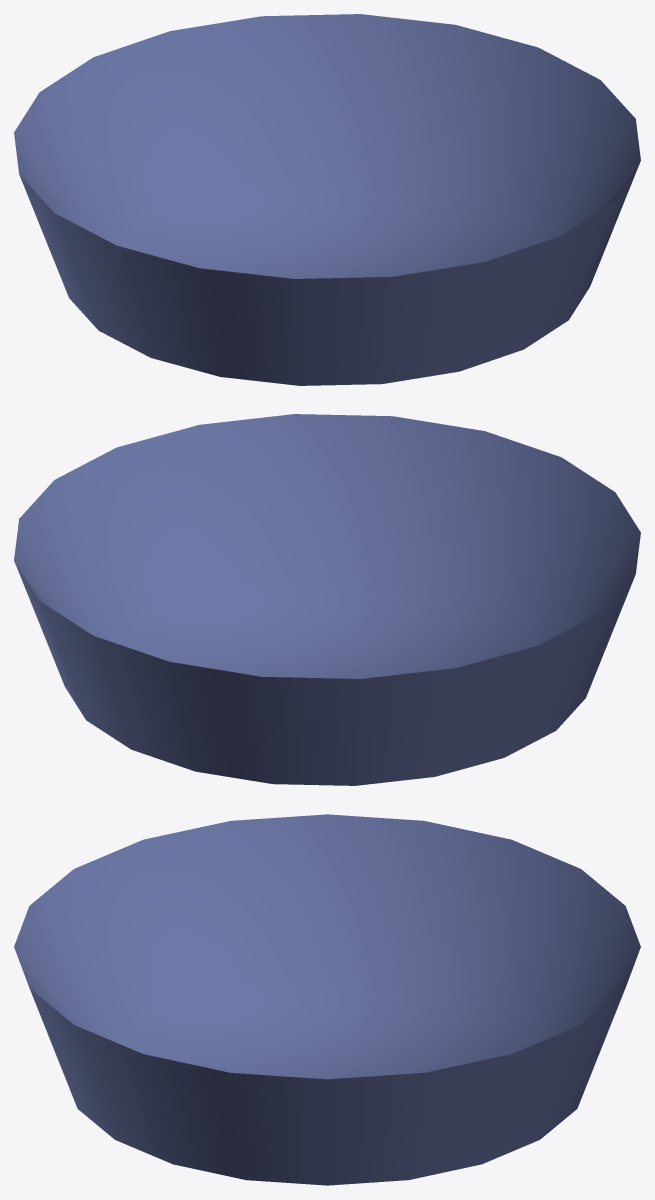
File: BigBowl.fbx
The picture shows the model from 3 angles, top to bottom: view 1: azimuth 30°, elevation 25°; view 2: azimuth 150°, elevation 25°; view 3: azimuth 270°, elevation 25°; orthographic projection.
Visible parts, largest first — view 1: Bowl; view 2: Bowl; view 3: Bowl.
Boxes of the visible parts, left/top/right/bottom form: Bowl: left=14, top=14, right=640, bottom=385; Bowl: left=14, top=414, right=640, bottom=785; Bowl: left=14, top=814, right=640, bottom=1185.
Bounding box in the file's own units: 0.3088 × 0.0694 × 0.3088.
